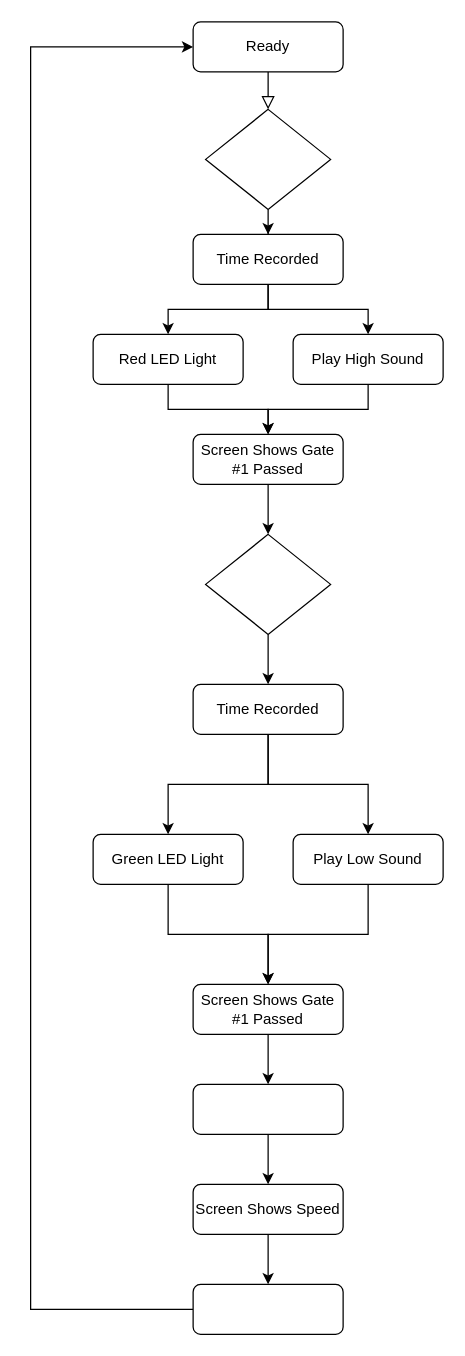
Image size: 465x1356. Some labels were removed from this diagram. The centre of each missing label's shape, as x and y in pixels:
"Deactivate LEDs" belongs at point (267, 1308).
"Pass Gate #1" belongs at point (267, 158).
"Pass Gate #2" belongs at point (267, 583).
"Speed Calculated" belongs at point (267, 1108).
